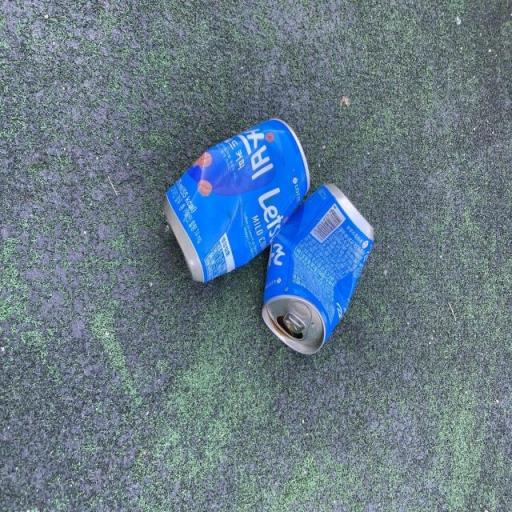metal: (136, 88, 338, 295), (258, 171, 382, 385)
